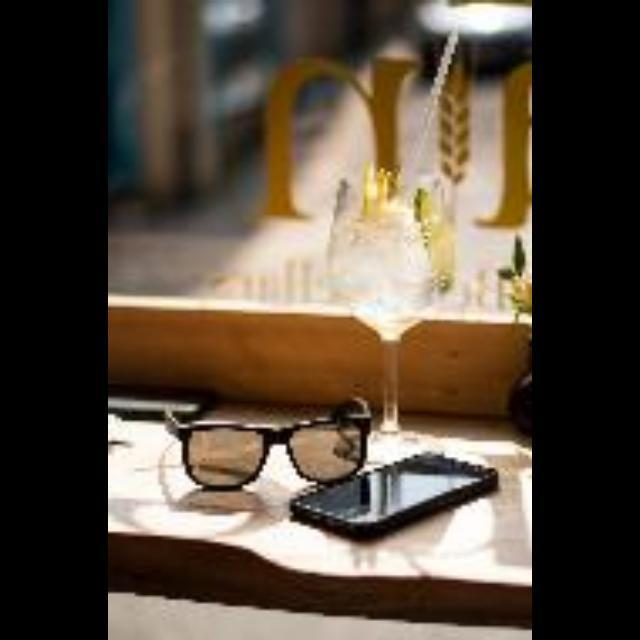PhoneUse: (292, 452, 504, 538)
